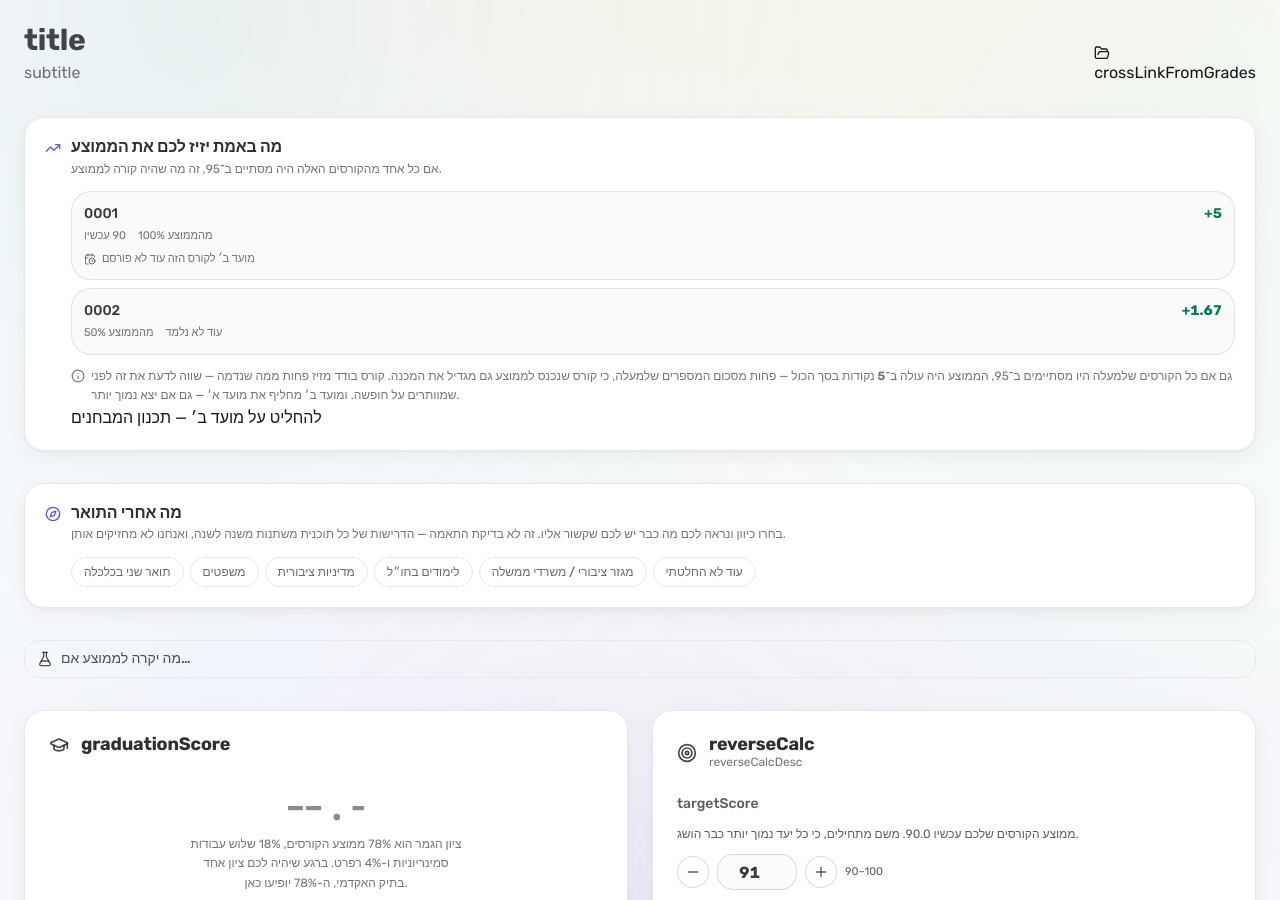
Test: ReverseCalculator honesty guards (#44 QA-8) › guard 2: remaining shares completed's population — seminar/English/binary never inflate the divisor
Replace the text in the number field with "92" at (757,872), box [717,854,797,890]
(page scrolled)
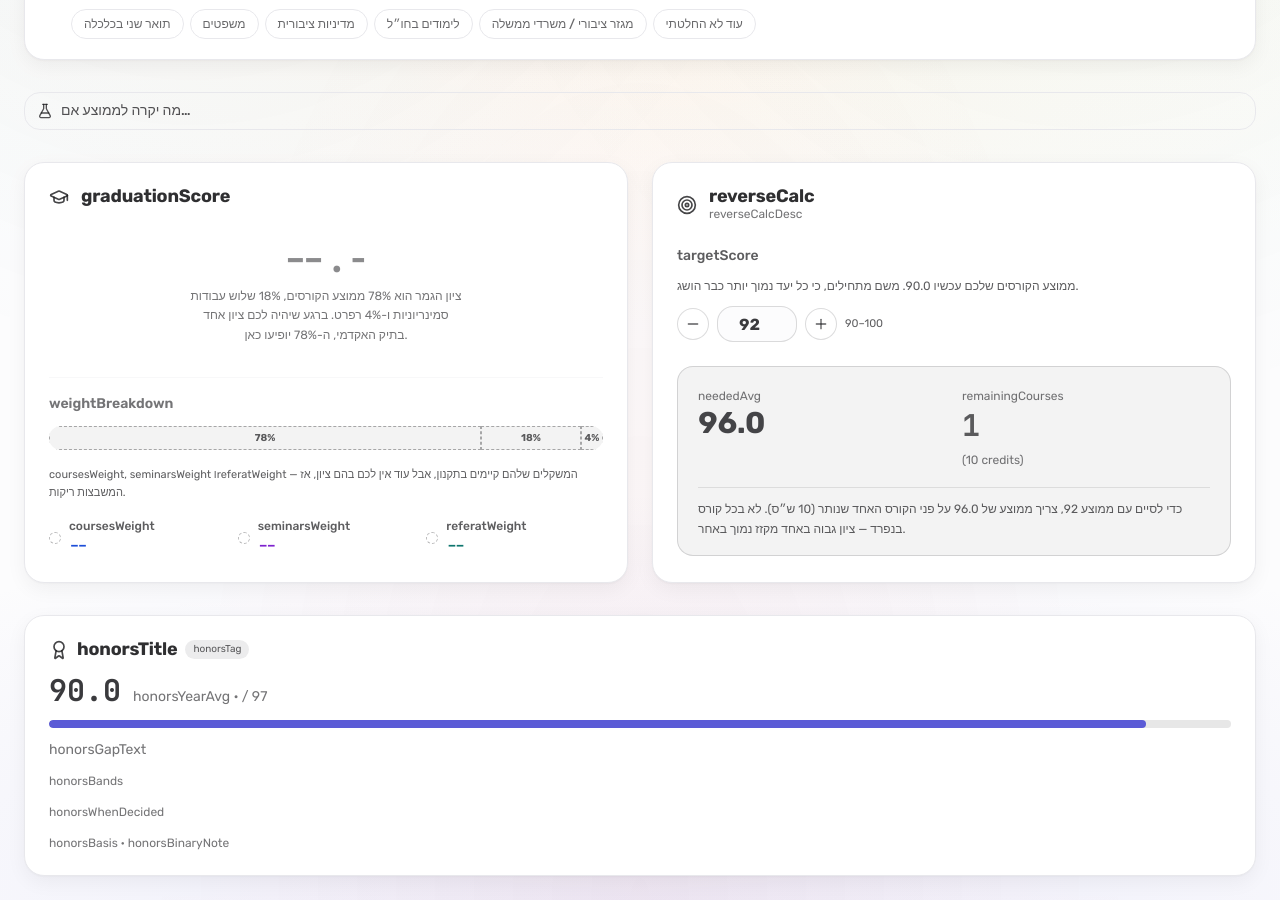
Expected: the text "1" is shown, [962,406,980,446]
Expected: the text "96.0" is shown, [698,406,765,442]
